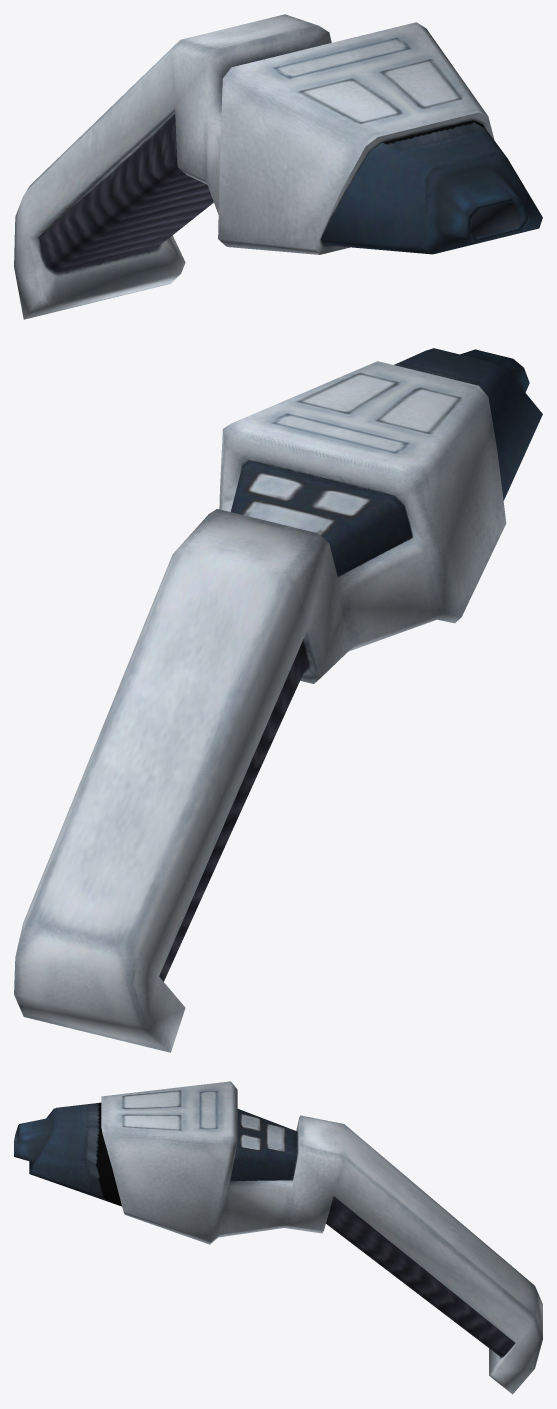
Rendered from phaser2.obj.
3 views of the same model, one above another, from view 1: azimuth 30°, elevation 25°; view 2: azimuth 150°, elevation 25°; view 3: azimuth 270°, elevation 25° (orthographic). The views are drawn at different scales.
Parts seen in each view (by area): view 1: Base; view 2: Base; view 3: Base.
Boxes of the visible parts, <box> form: Base: <box>14,14,542,319</box>; Base: <box>14,348,542,1052</box>; Base: <box>14,1081,542,1394</box>.
Size of the model in its own units: 0.1128 by 0.1871 by 0.3413.
